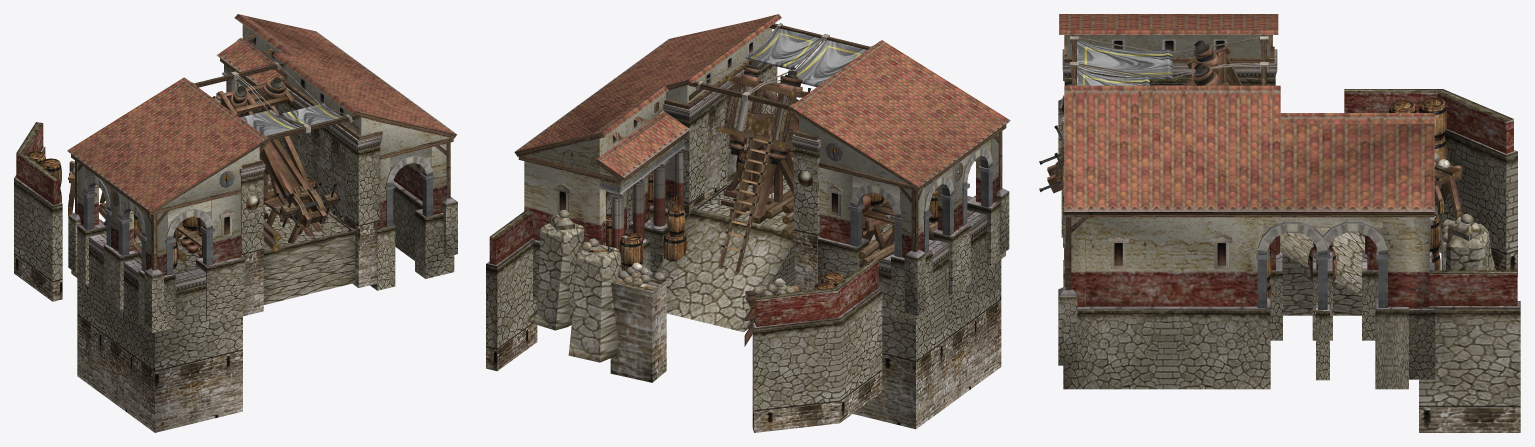
The model's file is s_romans_workshop.glb.
3 renders of one model, left to right at view 1: azimuth 30°, elevation 25°; view 2: azimuth 150°, elevation 25°; view 3: azimuth 270°, elevation 25°, orthographic. The views are drawn at different scales.
Parts seen in each view (by area): view 1: s_romans_workshop_part0; view 2: s_romans_workshop_part0; view 3: s_romans_workshop_part0.
Part boxes in pixels (x1,y1,x2,y2): s_romans_workshop_part0: (14,14,457,432); s_romans_workshop_part0: (486,14,1010,432); s_romans_workshop_part0: (1039,14,1520,432).
Size of the model in its own units: 4.88 by 4.14 by 5.
1 material, 1 textured.
